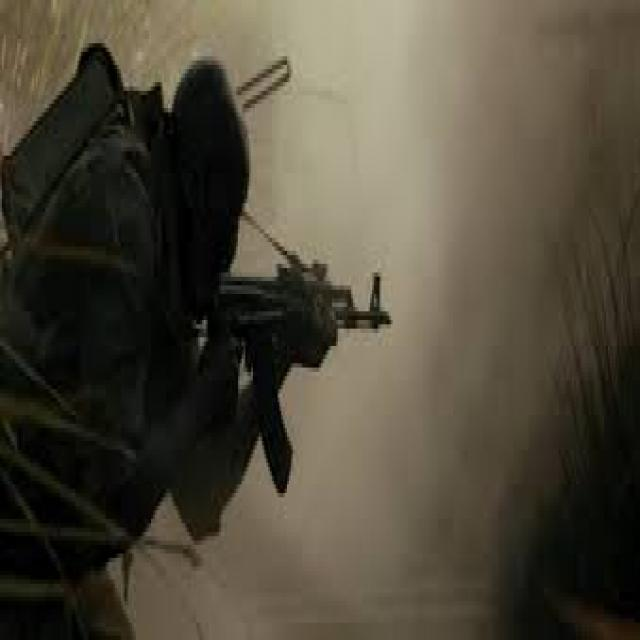weapon: (202, 252, 396, 502)
